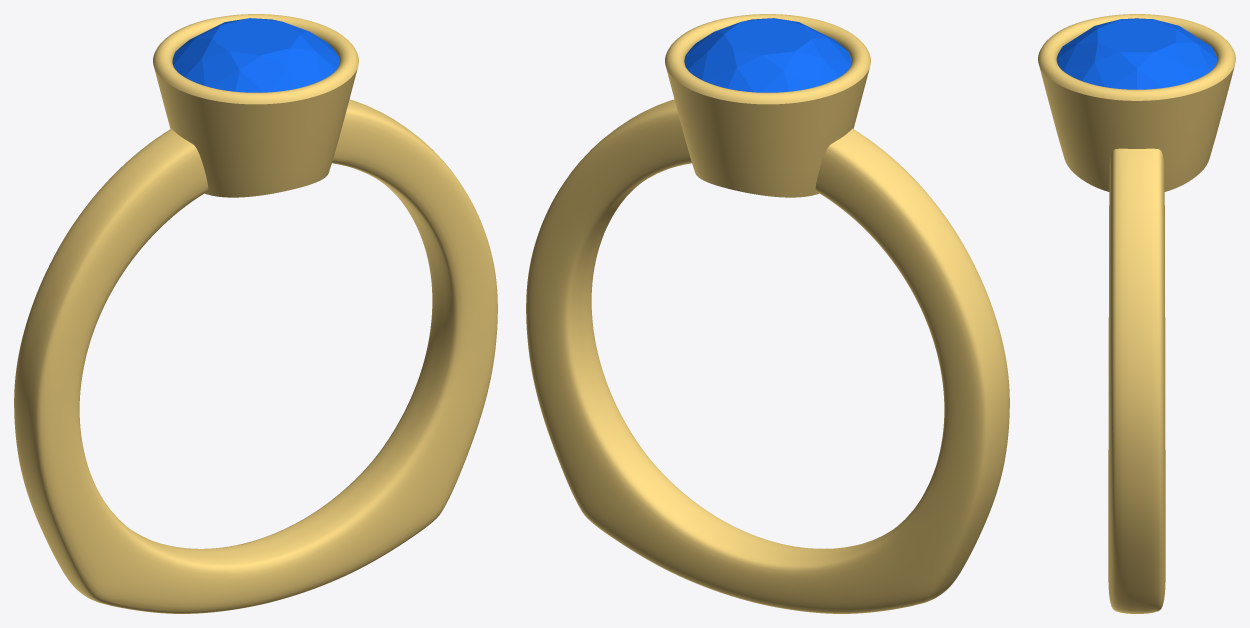
File: bluesapphire-round-yellowgold-bezelset-europeanshank-nosidestones.glb
3 views of the same model, side by side, from view 1: azimuth 30°, elevation 25°; view 2: azimuth 150°, elevation 25°; view 3: azimuth 270°, elevation 25° (orthographic). The views are drawn at different scales.
Visible parts, largest first — view 1: Round European shank bezel, Roundstone; view 2: Round European shank bezel, Roundstone; view 3: Round European shank bezel, Roundstone.
Boxes of the visible parts, x1,y1,x2,y2 form: Round European shank bezel: (14, 14, 497, 613); Roundstone: (172, 18, 339, 92); Round European shank bezel: (526, 14, 1009, 613); Roundstone: (684, 18, 851, 92); Round European shank bezel: (1038, 14, 1235, 613); Roundstone: (1056, 18, 1217, 89).
Bounding box in the file's own units: 20.71 × 23.81 × 7.94.
